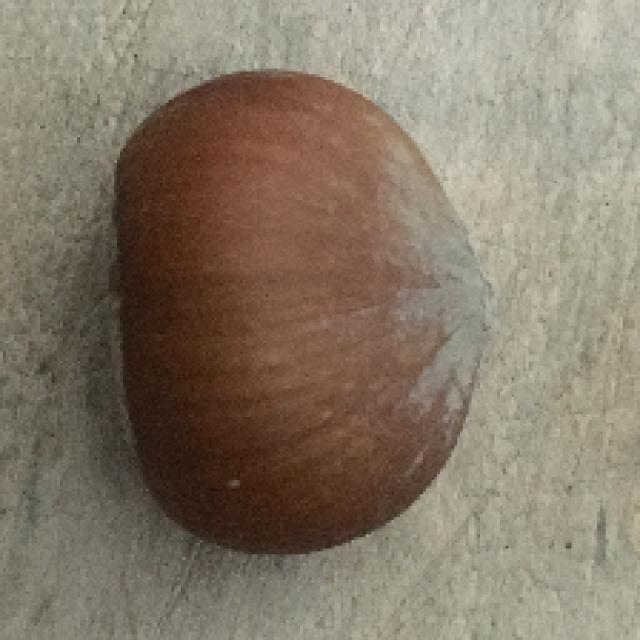qualityHazelnut: (89, 67, 510, 564)
